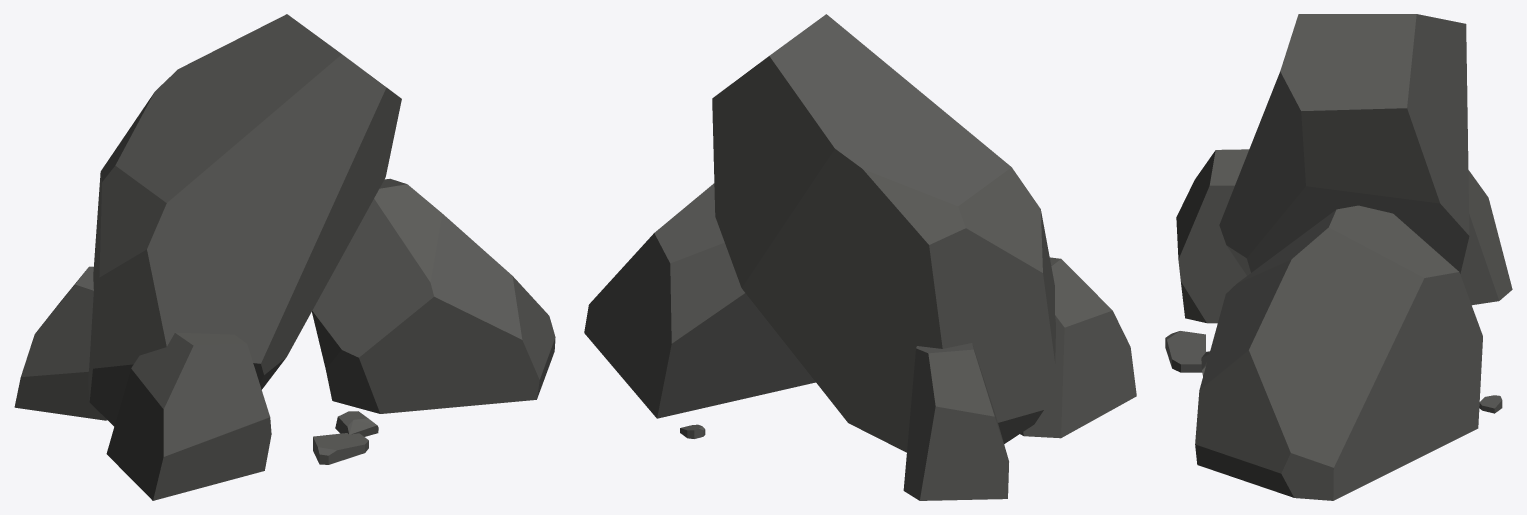
File: SM_Envr_Nature_Rock_Group_03.fbx
The picture shows the model from 3 angles, left to right: view 1: azimuth 30°, elevation 25°; view 2: azimuth 150°, elevation 25°; view 3: azimuth 270°, elevation 25°; orthographic projection. The views are drawn at different scales.
Visible parts, largest first — view 1: SM_Envr_Nature_Rock_Group_03; view 2: SM_Envr_Nature_Rock_Group_03; view 3: SM_Envr_Nature_Rock_Group_03.
Boxes of the visible parts, x1=… form: SM_Envr_Nature_Rock_Group_03: x1=14, y1=14, x2=555, y2=500; SM_Envr_Nature_Rock_Group_03: x1=584, y1=14, x2=1136, y2=500; SM_Envr_Nature_Rock_Group_03: x1=1165, y1=14, x2=1512, y2=500.
Bounding box in the file's own units: 366 × 277 × 219.
